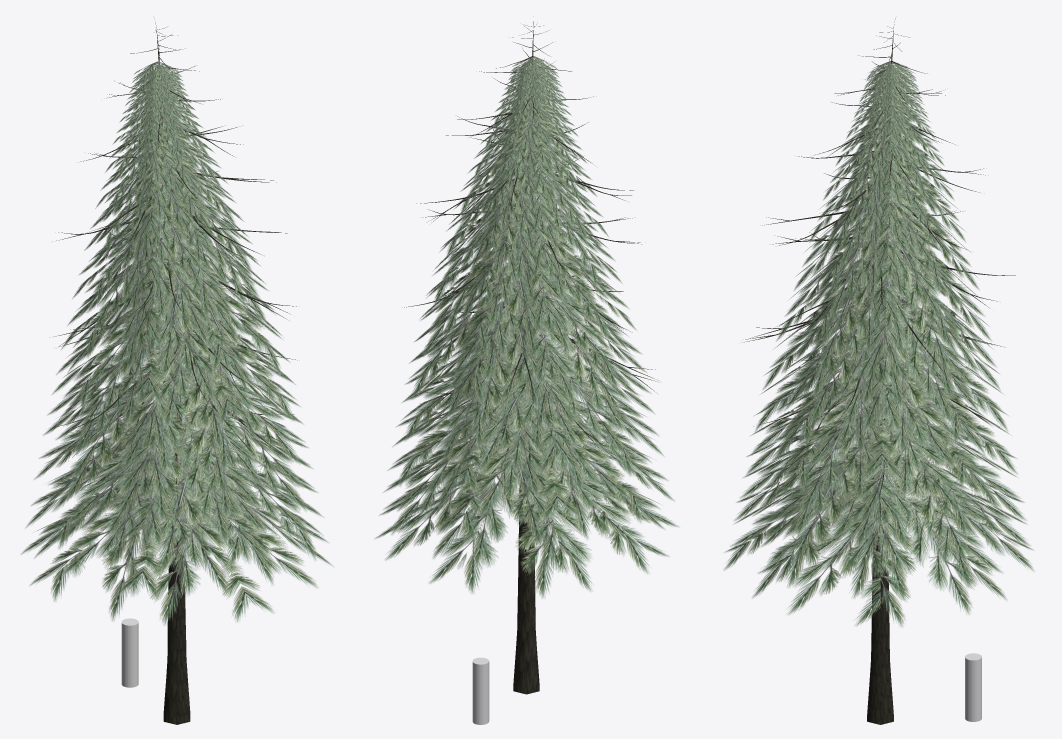
The model's file is tree_douglas.glb.
3 views of the same model, side by side, from view 1: azimuth 30°, elevation 25°; view 2: azimuth 150°, elevation 25°; view 3: azimuth 270°, elevation 25° (orthographic). The views are drawn at different scales.
Parts seen in each view (by area): view 1: tree.001, tree, Ref -noimp; view 2: tree.001, tree, Ref -noimp; view 3: tree.001, tree, Ref -noimp.
Part boxes in pixels (x1=…): tree.001: x1=20, y1=61, x2=334, y2=625; tree: x1=53, y1=22, x2=297, y2=724; Ref -noimp: x1=121, y1=618, x2=138, y2=687; tree.001: x1=374, y1=56, x2=679, y2=598; tree: x1=404, y1=21, x2=657, y2=694; Ref -noimp: x1=472, y1=657, x2=489, y2=724; tree.001: x1=723, y1=61, x2=1034, y2=627; tree: x1=744, y1=19, x2=1015, y2=724; Ref -noimp: x1=965, y1=653, x2=981, y2=721.
Size of what is drawn, in the model's own units: 9.84 by 22.64 by 9.84.
2 materials, 2 textured.
